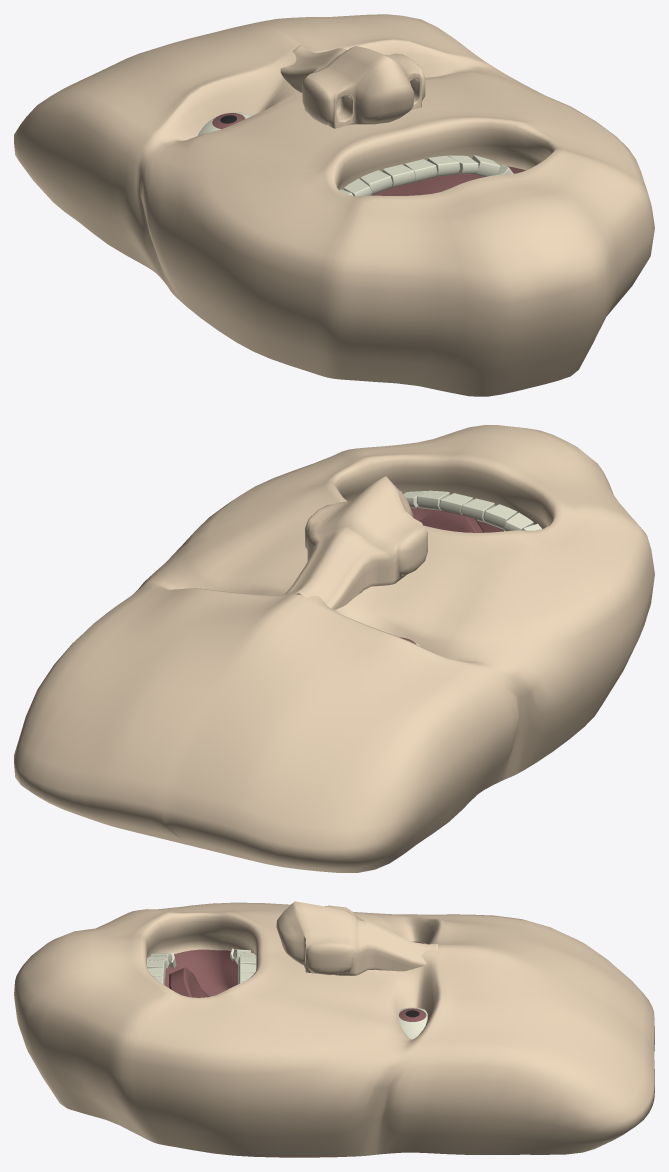
The model's file is mouth_v2.fbx.
3 renders of one model, top to bottom at view 1: azimuth 30°, elevation 25°; view 2: azimuth 150°, elevation 25°; view 3: azimuth 270°, elevation 25°, orthographic. The views are drawn at different scales.
Visible parts, largest first — view 1: polySurface28; view 2: polySurface28; view 3: polySurface28.
Part boxes in pixels (x1,y1,x2,y2): polySurface28: (14, 14, 654, 396); polySurface28: (14, 425, 654, 872); polySurface28: (14, 901, 654, 1157).
Size of the model in its own units: 21.64 by 11.53 by 36.07.
